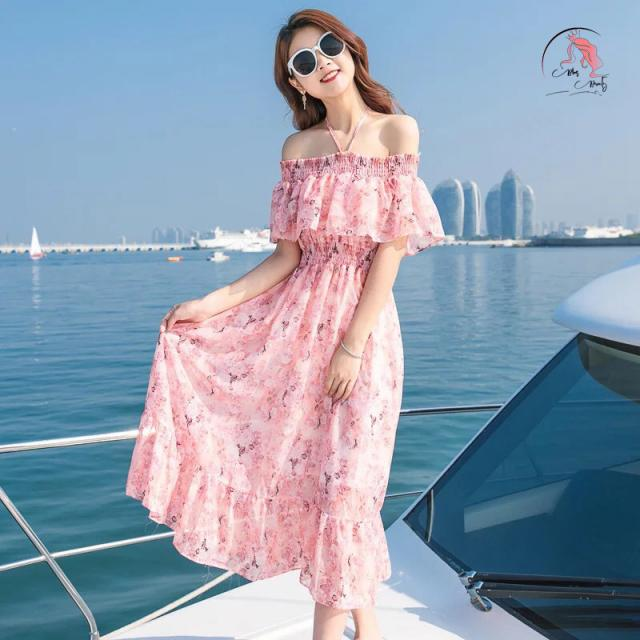clothes: (138, 118, 440, 612)
